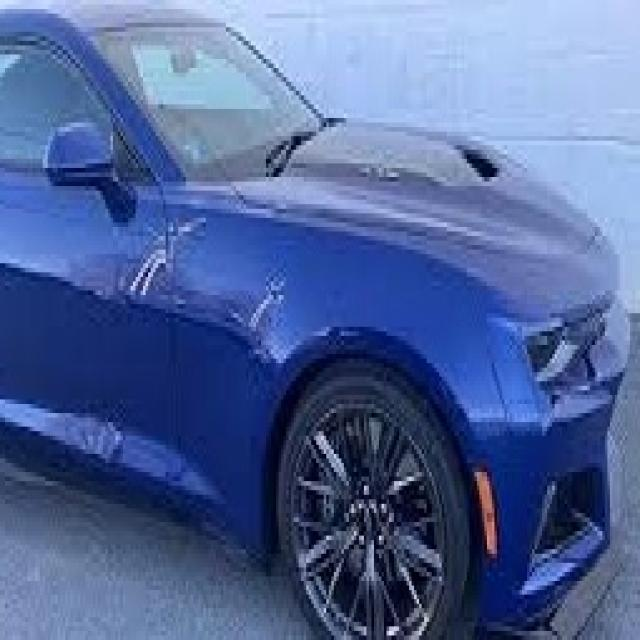blue: (0, 4, 633, 635)
